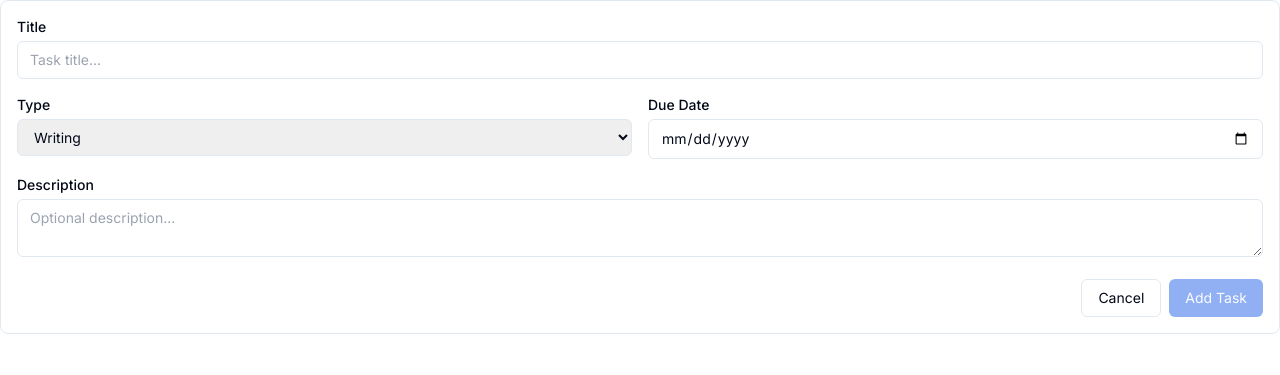
Test: TaskForm › shows validation error when title is empty on blur
Click the field labelled "Title".
click(640, 60)  # box [17,41,1263,79]
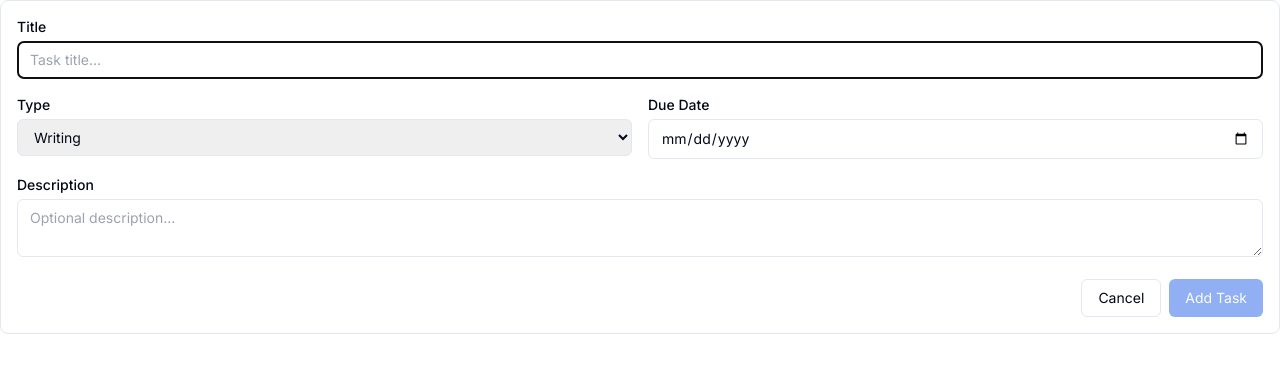
Press Tab
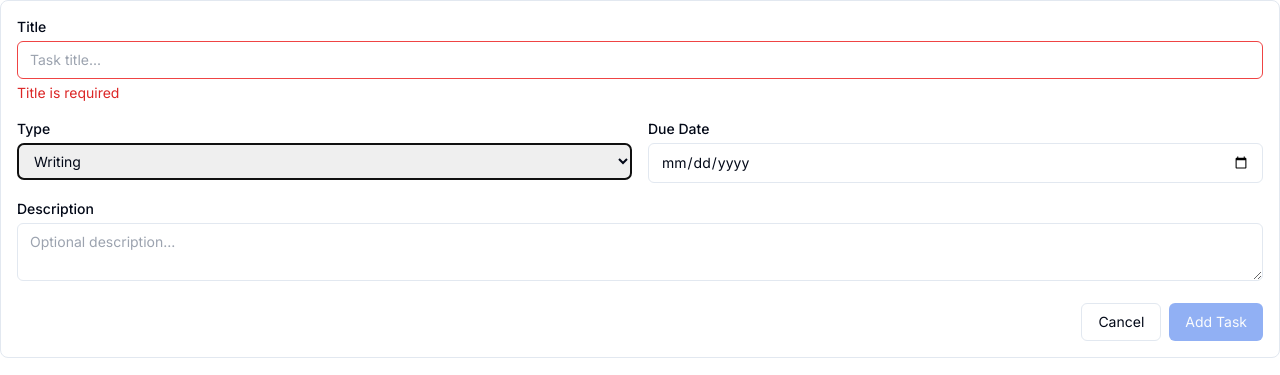
Now the text "Title is required" is shown, box [17,84,119,101]
